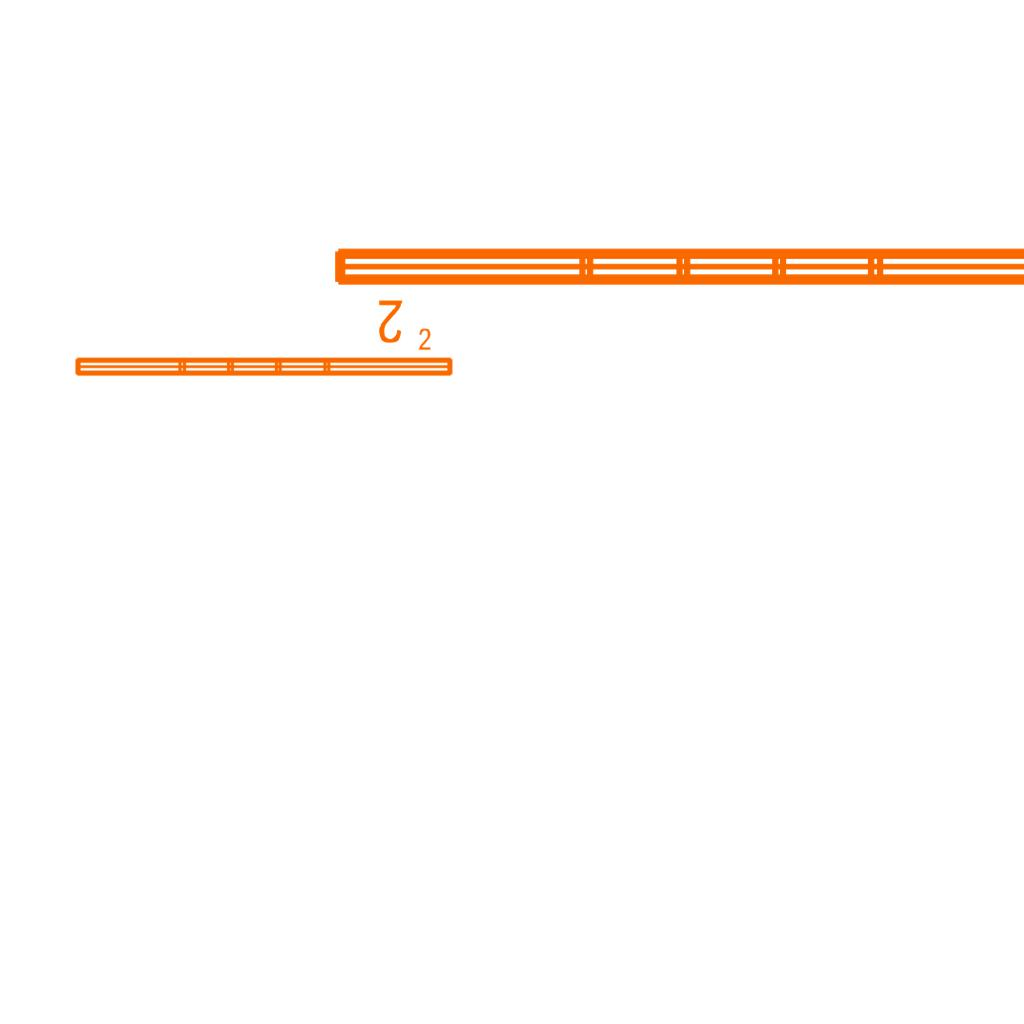Ambulanz_Pendelleuchte_LED: (326, 236, 1024, 348), (70, 326, 457, 382)
